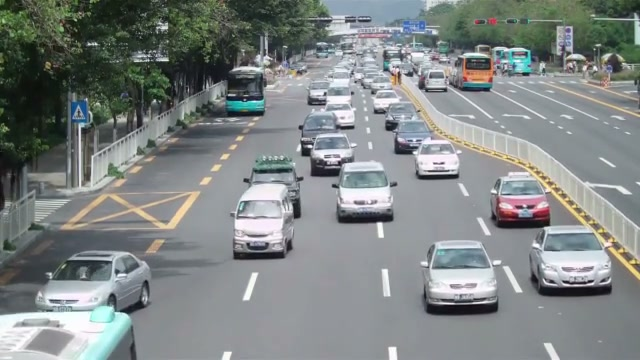bus: (226, 67, 266, 116), (452, 52, 494, 91)
car: (34, 249, 152, 314), (0, 305, 138, 359), (528, 225, 614, 296), (419, 240, 501, 314), (229, 183, 296, 259), (333, 161, 398, 222), (247, 155, 304, 218), (489, 174, 551, 228), (310, 132, 355, 176), (413, 139, 461, 179), (298, 111, 340, 156), (392, 119, 433, 154), (384, 102, 417, 131), (324, 104, 356, 130), (372, 89, 402, 114)
